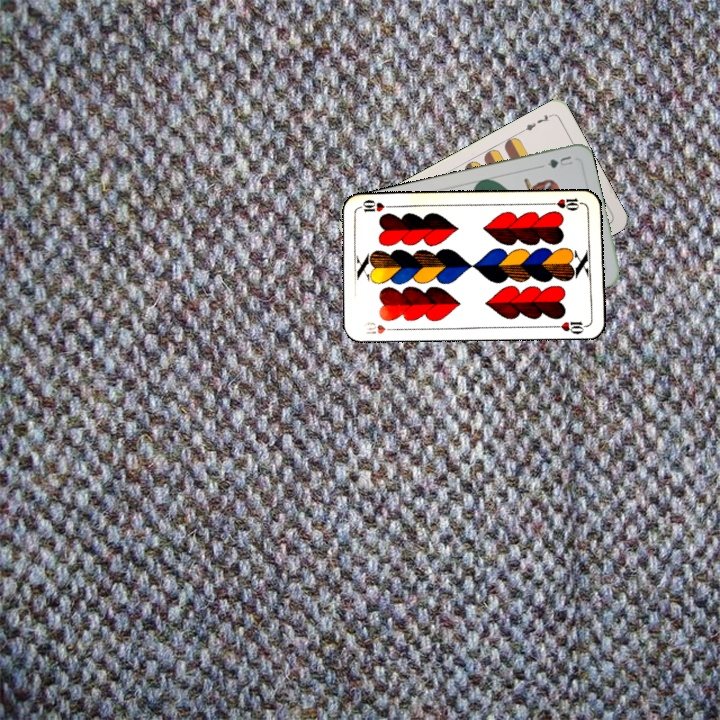E7: (517, 110, 554, 135)
GU: (537, 152, 575, 171)
H10: (360, 317, 400, 337), (546, 194, 586, 213)
